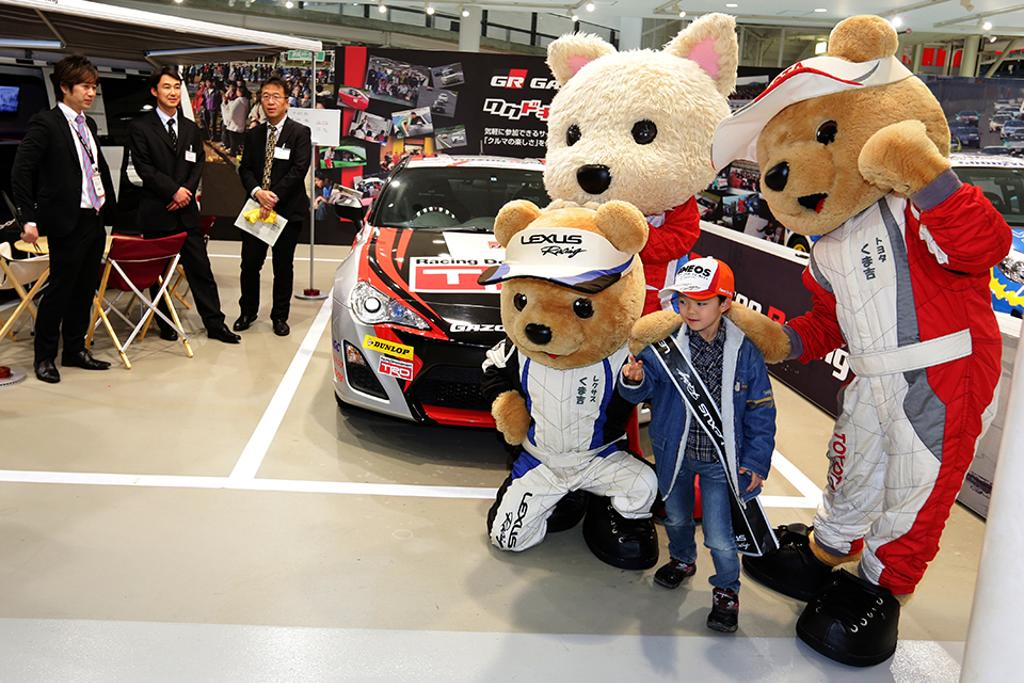face: (678, 289, 716, 329), (68, 76, 94, 107), (260, 88, 284, 117), (159, 78, 181, 106), (315, 176, 323, 187), (342, 150, 348, 157), (319, 70, 325, 76), (199, 79, 204, 86), (295, 87, 299, 95), (304, 92, 309, 98), (236, 80, 241, 86), (371, 60, 375, 67), (324, 60, 329, 65), (206, 81, 210, 87), (236, 89, 240, 95), (287, 81, 291, 87), (230, 85, 234, 90), (385, 156, 389, 161)
